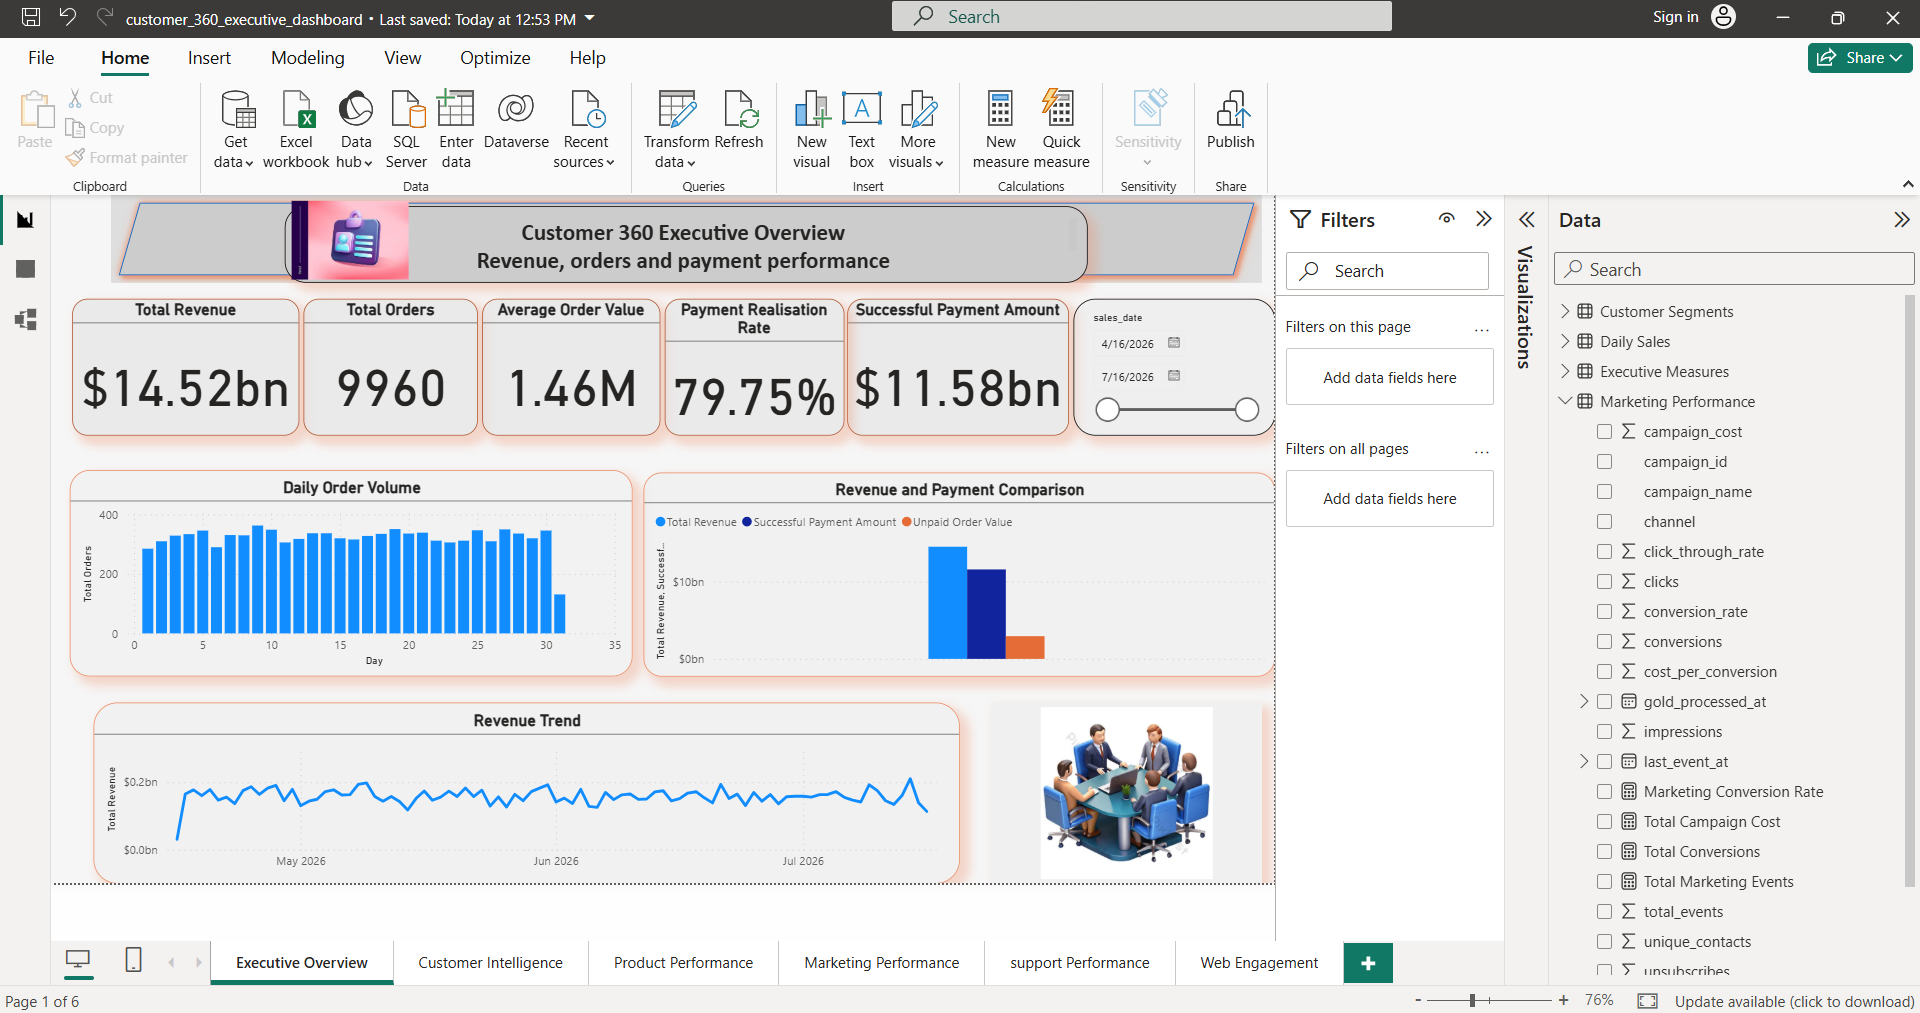

The dashboard page shown, as its layout file describes it:
{"tool":"powerbi","page":{"name":"Executive Overview","canvas":[1280,720],"ordinal":0},"visuals":[{"type":"card","title":"Total Revenue","fields":{"Values":["Executive Measures.Total Revenue"]},"box":[22.1,109.1,237.9,143.5],"z":0},{"type":"card","title":"Total Orders","fields":{"Values":["Executive Measures.Total Orders"]},"box":[264.1,109.1,182.7,143.5],"z":1000},{"type":"card","title":"Average Order Value","fields":{"Values":["Executive Measures.Average Order Value"]},"box":[451,109.1,186.4,143.5],"z":2000},{"type":"card","title":"Successful Payment Amount","fields":{"Values":["Executive Measures.Successful Payment Amount"]},"box":[833.4,109.1,231.8,143.5],"z":3000},{"type":"card","title":"Payment Realisation Rate","fields":{"Values":["Executive Measures.Payment Realisation Rate"]},"box":[641.6,109.1,187.6,143.5],"z":4000},{"type":"lineChart","title":"Revenue Trend","fields":{"Y":["Executive Measures.Total Revenue"],"Category":["Daily Sales.sales_date.Variation.Date Hierarchy.Year","Daily Sales.sales_date.Variation.Date Hierarchy.Quarter","Daily Sales.sales_date.Variation.Date Hierarchy.Month","Daily Sales.sales_date.Variation.Date Hierarchy.Day"]},"box":[43.8,530.5,906.1,190],"z":5000},{"type":"clusteredColumnChart","title":"Daily Order Volume","fields":{"Category":["Daily Sales.sales_date.Variation.Date Hierarchy.Day"],"Y":["Executive Measures.Total Orders"]},"box":[19,287.9,589,216.3],"z":6000},{"type":"clusteredColumnChart","title":"Revenue and Payment Comparison","fields":{"Y":["Executive Measures.Total Revenue","Executive Measures.Successful Payment Amount","Executive Measures.Unpaid Order Value"]},"box":[619.7,290.8,660.6,213.4],"z":7000},{"type":"slicer","fields":{"Values":["Daily Sales.sales_date"]},"box":[1069.1,109.1,210.9,143.5],"z":8000},{"type":"shape","box":[62.8,0,1204.3,92.1],"z":9000},{"type":"textbox","box":[244.1,11.7,840.4,80.4],"z":10000},{"type":"image","box":[244.1,1.5,137.4,92.1],"z":11000},{"type":"image","box":[983.6,530.5,283.5,190],"z":12000}]}

Visuals, with their boxes on the page's 1280x720 design canvas (x1, y1, x2, y2). These are canvas units, not pixel positions in the 1920x1013 screenshot, which may show the page scaled, cropped or inside an application window:
"Total Revenue" card: x1=22 y1=109 x2=260 y2=253
"Total Orders" card: x1=264 y1=109 x2=447 y2=253
"Average Order Value" card: x1=451 y1=109 x2=637 y2=253
"Successful Payment Amount" card: x1=833 y1=109 x2=1065 y2=253
"Payment Realisation Rate" card: x1=642 y1=109 x2=829 y2=253
"Revenue Trend" lineChart: x1=44 y1=530 x2=950 y2=720
"Daily Order Volume" clusteredColumnChart: x1=19 y1=288 x2=608 y2=504
"Revenue and Payment Comparison" clusteredColumnChart: x1=620 y1=291 x2=1280 y2=504
slicer - Daily Sales.sales_date: x1=1069 y1=109 x2=1280 y2=253
shape: x1=63 y1=0 x2=1267 y2=92
textbox: x1=244 y1=12 x2=1084 y2=92
image: x1=244 y1=2 x2=382 y2=94
image: x1=984 y1=530 x2=1267 y2=720
